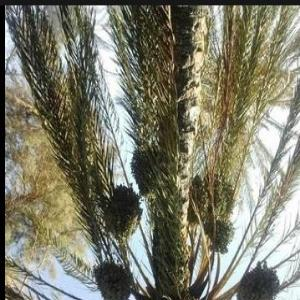palm tree: (5, 3, 299, 299)
